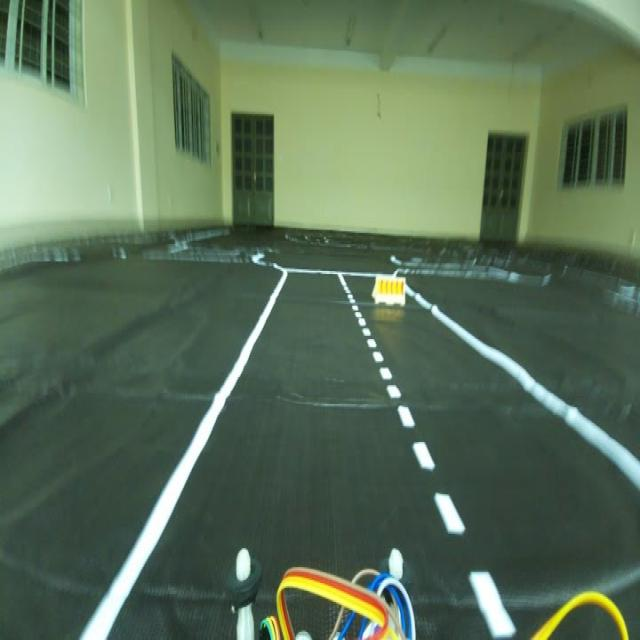roadblock: (369, 266, 410, 314)
